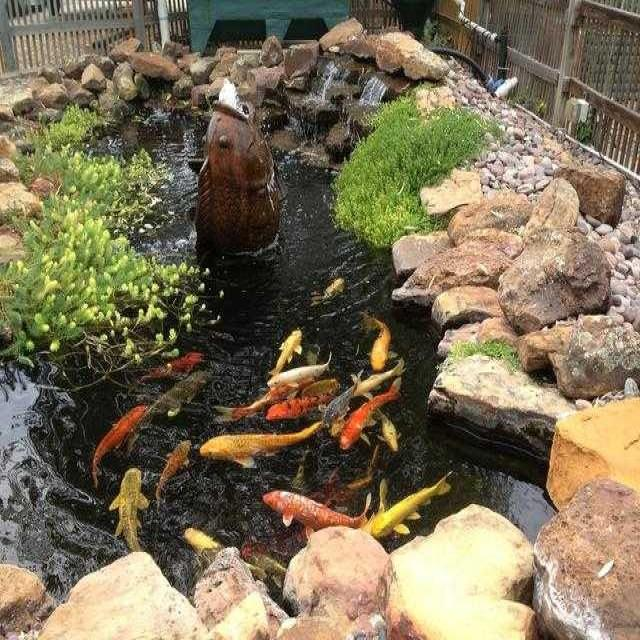Ponds: (1, 24, 640, 640)
